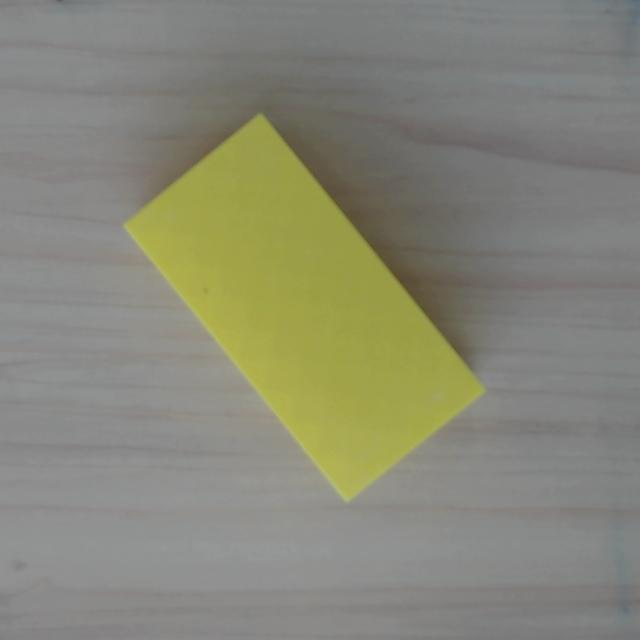Balok-Kuning-1005025: (121, 111, 487, 503)
